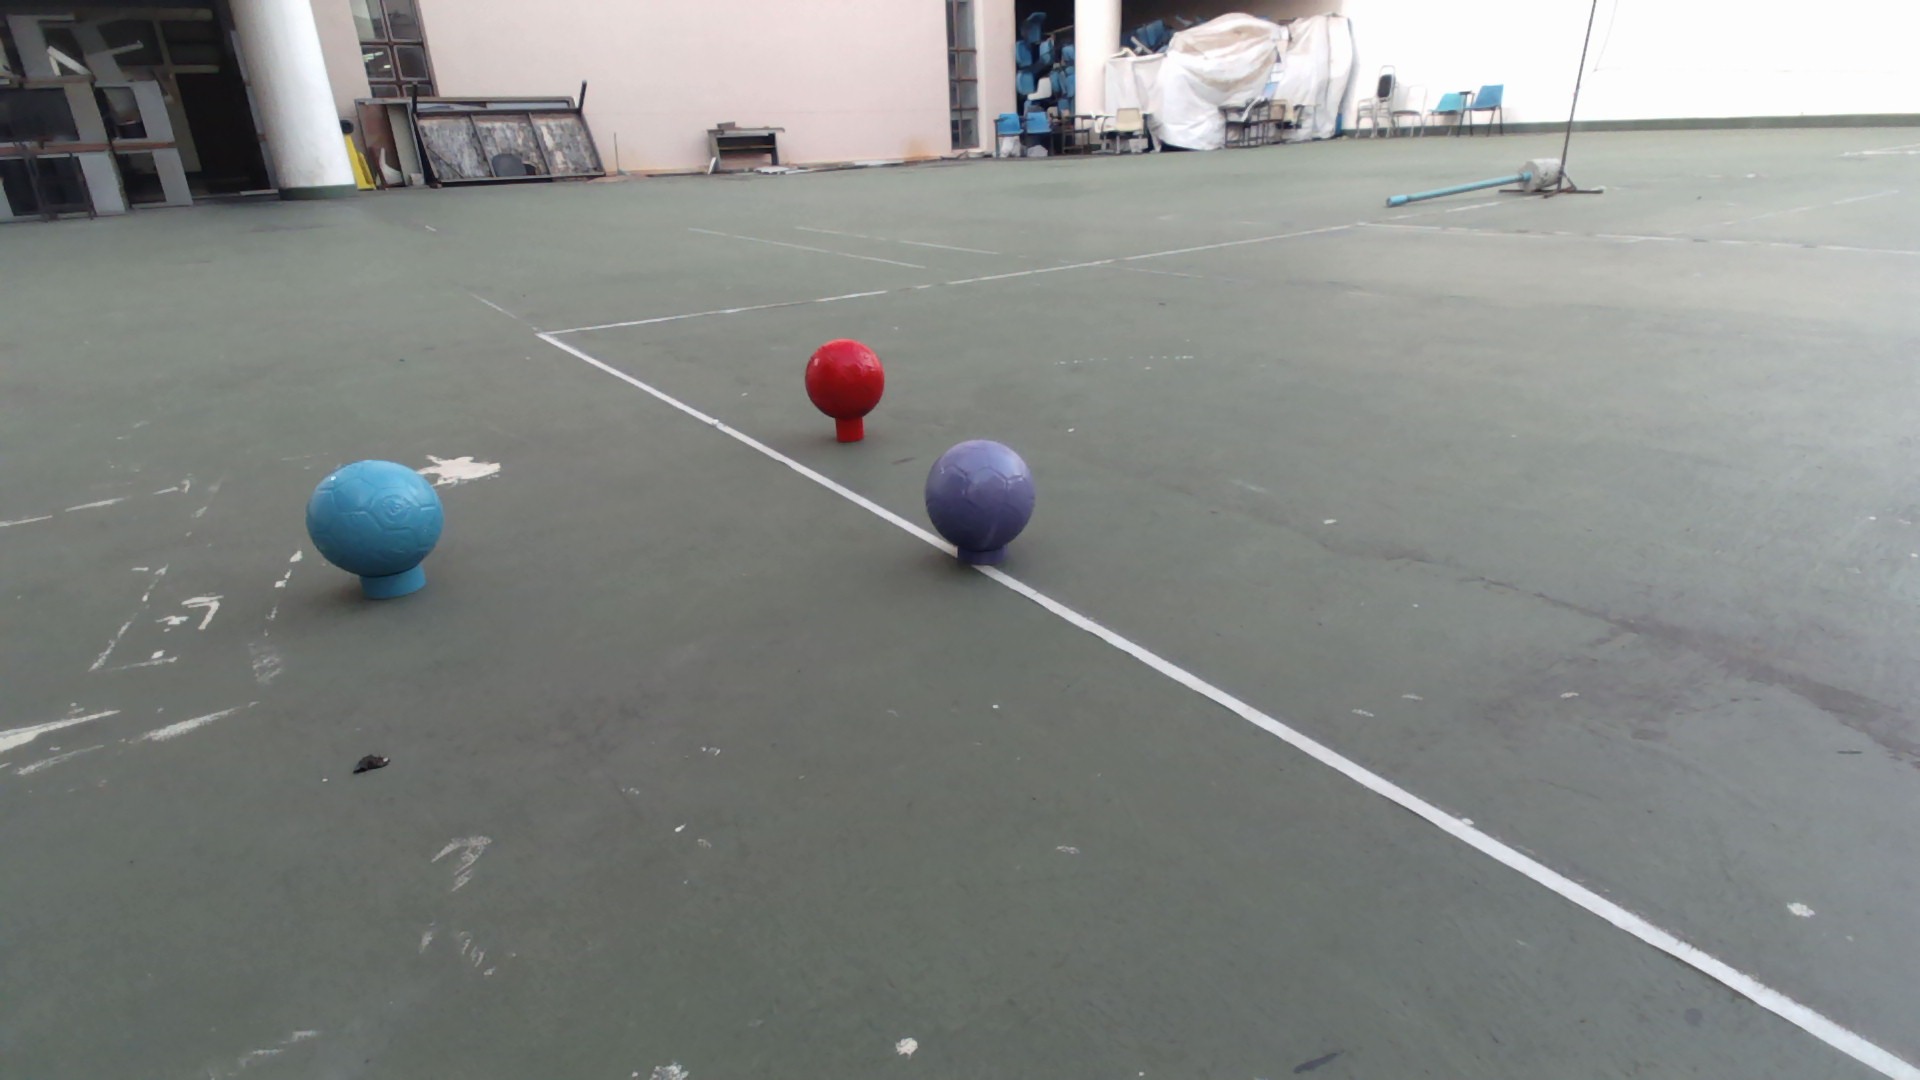Blue ball: (303, 458, 444, 579)
Purple ball: (922, 436, 1036, 554)
Red ball: (802, 336, 885, 422)
